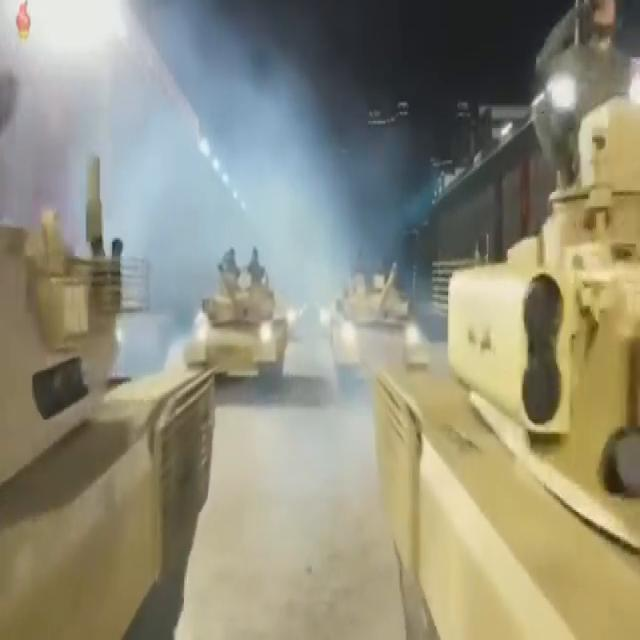north tank: (383, 130, 640, 640), (0, 156, 246, 640), (182, 215, 292, 418), (320, 243, 428, 425)
